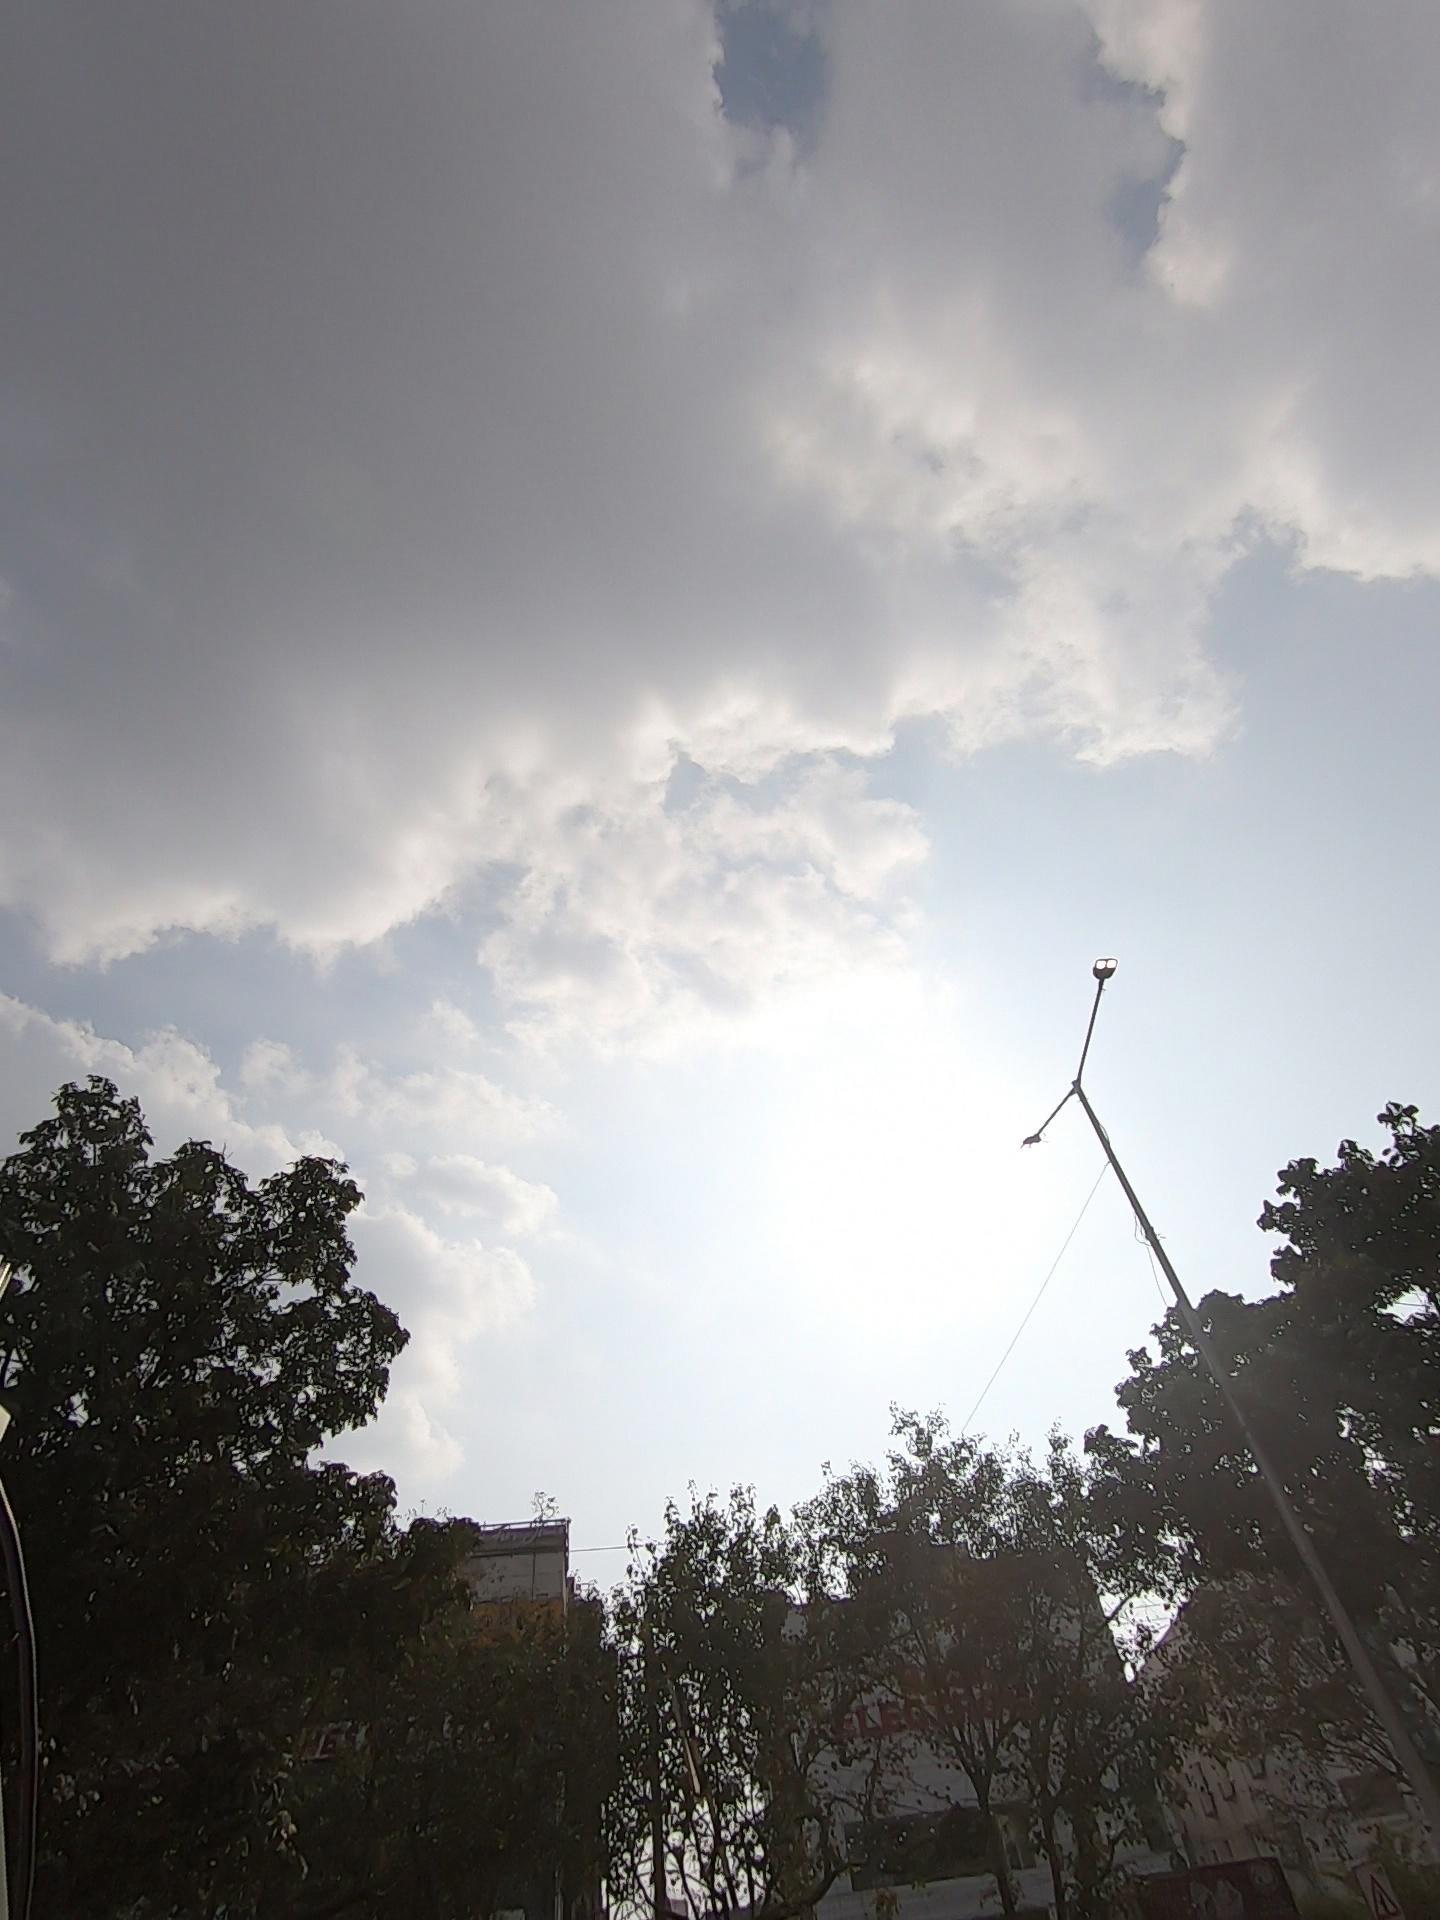off: (947, 965, 1160, 1166)
